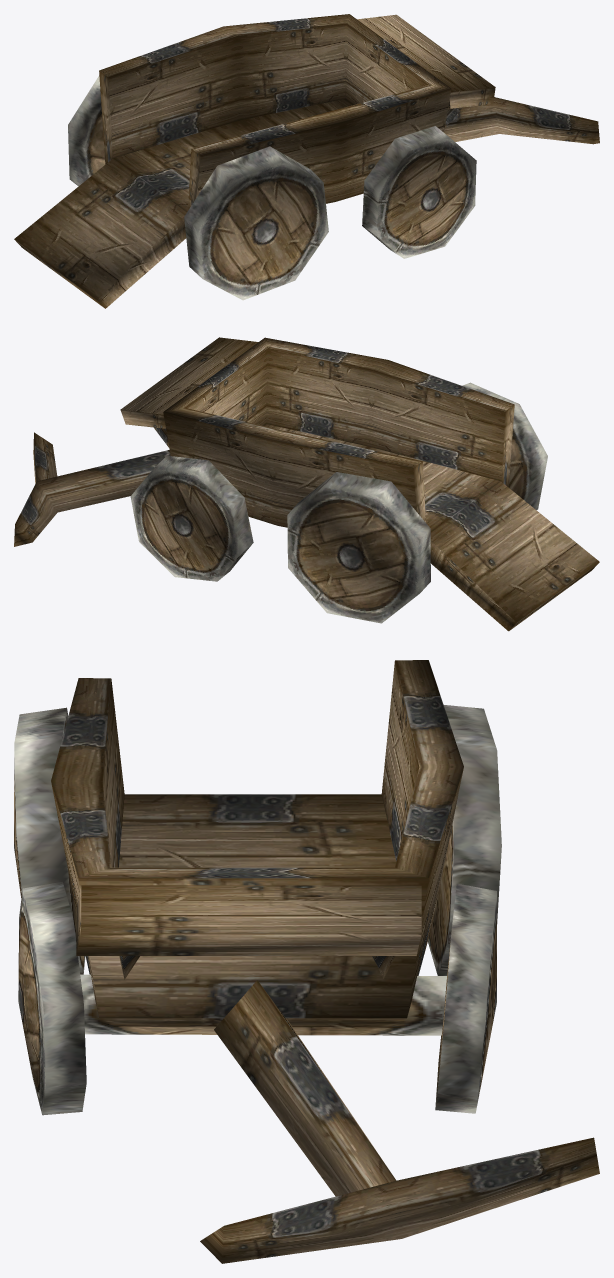
The model's file is westfallwagon01.obj.
3 views of the same model, one above another, from view 1: azimuth 30°, elevation 25°; view 2: azimuth 150°, elevation 25°; view 3: azimuth 270°, elevation 25° (orthographic). The views are drawn at different scales.
Visible parts, largest first — view 1: WESTFALLWAGON010, WESTFALLWAGON011; view 2: WESTFALLWAGON010, WESTFALLWAGON011; view 3: WESTFALLWAGON010, WESTFALLWAGON011.
Part boxes in pixels (left/top/right/bottom): WESTFALLWAGON010: left=14, top=14, right=599, bottom=308; WESTFALLWAGON011: left=68, top=75, right=476, bottom=300; WESTFALLWAGON010: left=14, top=337, right=599, bottom=631; WESTFALLWAGON011: left=130, top=382, right=547, bottom=623; WESTFALLWAGON010: left=51, top=660, right=599, bottom=1263; WESTFALLWAGON011: left=14, top=705, right=501, bottom=1115.
Size of the model in its own units: 9.12 by 2.57 by 5.03.
2 materials, 2 textured.
